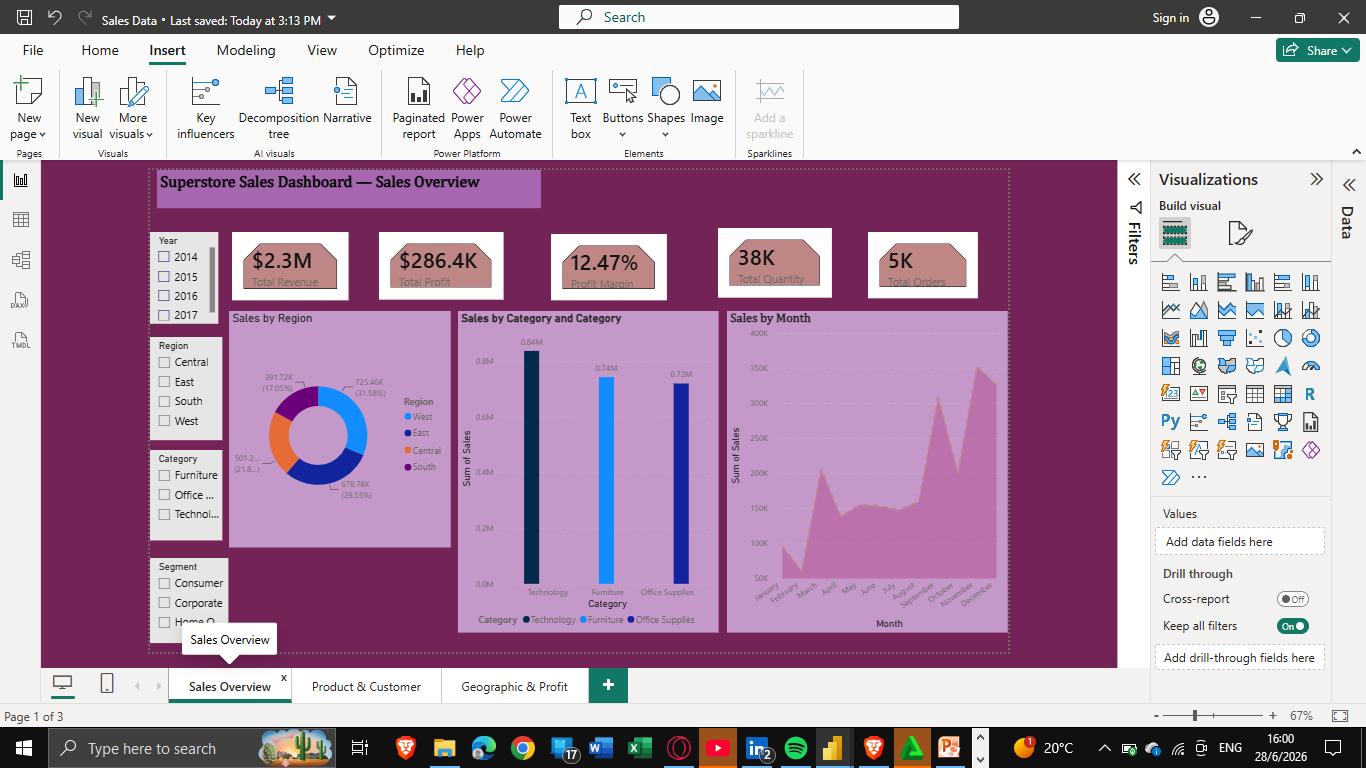

This screenshot's page, from the dashboard's own definition file:
{"tool":"powerbi","page":{"name":"Sales Overview","canvas":[1280,720],"ordinal":0},"visuals":[{"type":"textbox","box":[10,0,572.9,57.1],"z":0},{"type":"cardVisual","fields":{"Data":["Sample - Superstore.Total Revenue"]},"box":[122.4,92.2,174.2,102.2],"z":1000},{"type":"cardVisual","fields":{"Data":["Sample - Superstore.Total Profit"]},"box":[341.3,92.2,185.8,100.8],"z":2000},{"type":"cardVisual","fields":{"Data":["Sample - Superstore.Total Quantity"]},"box":[848.2,86.4,169.9,103.7],"z":3000},{"type":"cardVisual","fields":{"Data":["Sample - Superstore.Profit Margin"]},"box":[599,95,172.8,99.4],"z":4000},{"type":"cardVisual","fields":{"Data":["Sample - Superstore.Total Orders"]},"box":[1071.4,92.2,164.2,99.4],"z":5000},{"type":"clusteredColumnChart","title":"Sales by Category and Category","fields":{"Category":["Sample - Superstore.Category"],"Y":["Sum(Sample - Superstore.Sales)"],"Series":["Sample - Superstore.Category"]},"box":[459.4,210.2,388.8,479.5],"z":6000},{"type":"donutChart","title":"Sales by Region","fields":{"Y":["Sum(Sample - Superstore.Sales)"],"Category":["Sample - Superstore.Region"]},"box":[118.1,210.2,331.2,352.8],"z":7000},{"type":"lineChart","title":" Sales by Month","fields":{"Y":["Sum(Sample - Superstore.Sales)"],"Category":["Sample - Superstore.Order Date.Variation.Date Hierarchy.Month"]},"box":[861.1,210.2,419,479.5],"z":8000},{"type":"slicer","fields":{"Values":["Sample - Superstore.Order Date.Variation.Date Hierarchy.Year"]},"box":[0,92.2,102.2,136.8],"z":9000},{"type":"slicer","fields":{"Values":["Sample - Superstore.Region"]},"box":[0,249.1,108,154.1],"z":10000},{"type":"slicer","fields":{"Values":["Sample - Superstore.Category"]},"box":[0,417.6,108,135.4],"z":11000},{"type":"slicer","fields":{"Values":["Sample - Superstore.Segment"]},"box":[0,578.9,116.6,126.7],"z":12000}]}

Visuals, with their boxes on the page's 1280x720 design canvas (x1, y1, x2, y2). These are canvas units, not pixel positions in the 1366x768 screenshot, which may show the page scaled, cropped or inside an application window:
textbox: crop(10, 0, 583, 57)
cardVisual - Sample - Superstore.Total Revenue: crop(122, 92, 297, 194)
cardVisual - Sample - Superstore.Total Profit: crop(341, 92, 527, 193)
cardVisual - Sample - Superstore.Total Quantity: crop(848, 86, 1018, 190)
cardVisual - Sample - Superstore.Profit Margin: crop(599, 95, 772, 194)
cardVisual - Sample - Superstore.Total Orders: crop(1071, 92, 1236, 192)
"Sales by Category and Category" clusteredColumnChart: crop(459, 210, 848, 690)
"Sales by Region" donutChart: crop(118, 210, 449, 563)
" Sales by Month" lineChart: crop(861, 210, 1280, 690)
slicer - Sample - Superstore.Order Date.Variation.Date Hierarchy.Year: crop(0, 92, 102, 229)
slicer - Sample - Superstore.Region: crop(0, 249, 108, 403)
slicer - Sample - Superstore.Category: crop(0, 418, 108, 553)
slicer - Sample - Superstore.Segment: crop(0, 579, 117, 706)
